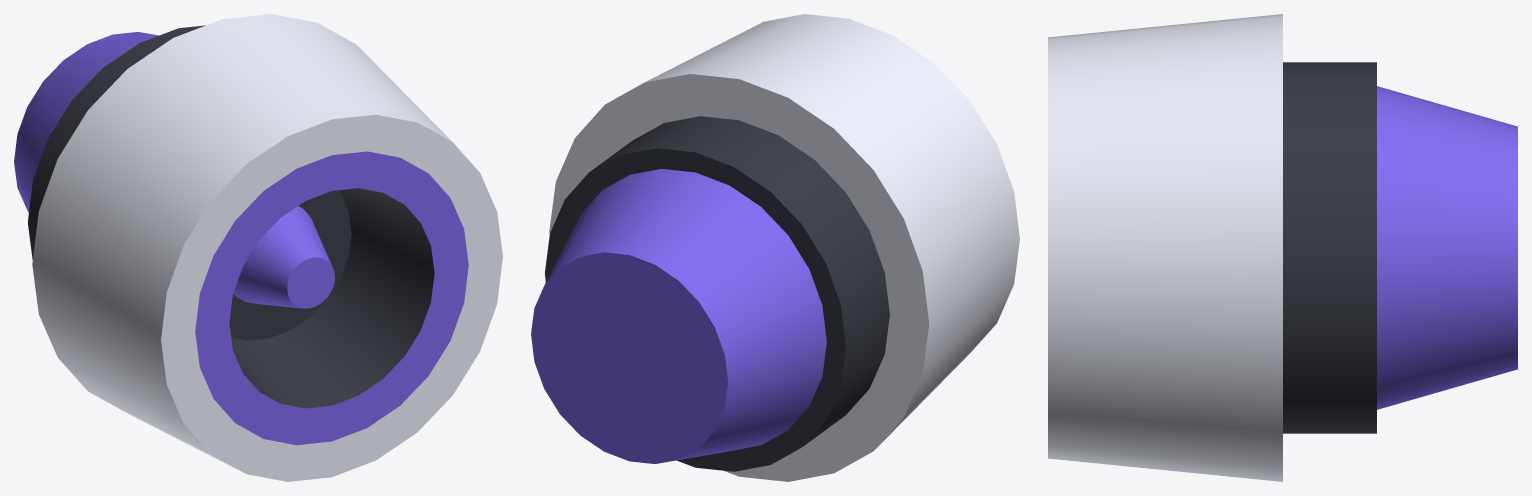
The model's file is Engine_1.fbx.
3 renders of one model, left to right at view 1: azimuth 30°, elevation 25°; view 2: azimuth 150°, elevation 25°; view 3: azimuth 270°, elevation 25°, orthographic. The views are drawn at different scales.
Visible parts, largest first — view 1: engine_round; view 2: engine_round; view 3: engine_round.
Boxes of the visible parts, left/top/right/bottom form: engine_round: left=14, top=14, right=502, bottom=481; engine_round: left=531, top=14, right=1019, bottom=481; engine_round: left=1048, top=14, right=1517, bottom=481.
Bounding box in the file's own units: 10 × 10 × 10.
